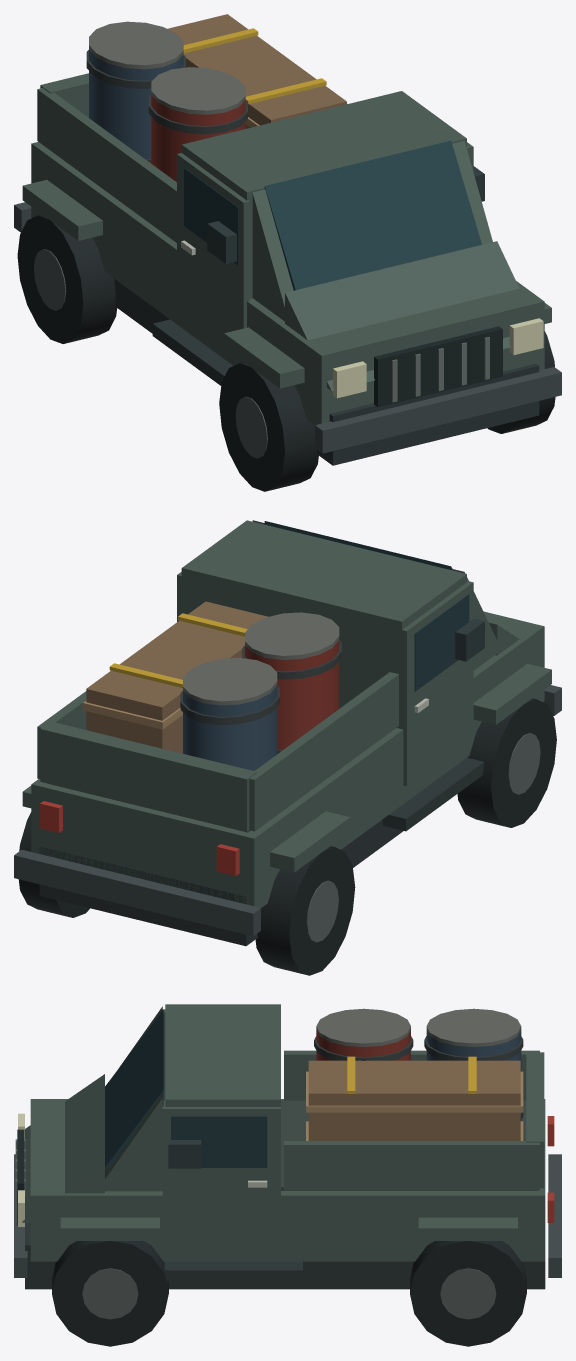
The model's file is CMU3DReduxAU14VehicleCivArmoredTruck.glb.
The picture shows the model from 3 angles, top to bottom: view 1: azimuth 30°, elevation 25°; view 2: azimuth 150°, elevation 25°; view 3: azimuth 270°, elevation 25°; orthographic projection. The views are drawn at different scales.
Parts seen in each view (by area): view 1: lower vehicle body, windshield, rubber road tire (×3), cab bulkhead, front hood, bed side wall, cab door skin, wooden cargo crate, cargo drum (×2), drum lid (×2), bumper, sealed chassis (+11 smaller); view 2: lower vehicle body, cab bulkhead, rubber road tire (×3), tailgate, wooden cargo crate, bed side wall (×2), cargo drum (×2), cab door skin, bumper, drum lid (×2), sealed chassis, wheel fender (×2) (+10 smaller); view 3: lower vehicle body, rubber road tire (×2), wooden cargo crate, bed side wall (×2), cab bulkhead, cab door skin, sealed chassis, drum lid (×2), windshield, front hood, wheel fender (×2), recessed metal wheel hub (×2) (+11 smaller).
Part boxes in pixels (x1,y1,x2,y2): lower vehicle body: [31, 142, 544, 424]; windshield: [264, 140, 481, 290]; rubber road tire (×3): [17, 214, 555, 491]; cab bulkhead: [181, 91, 466, 298]; front hood: [285, 241, 519, 390]; bed side wall: [37, 88, 176, 242]; cab door skin: [177, 153, 249, 343]; wooden cargo crate: [167, 14, 346, 128]; cargo drum (×2): [89, 49, 245, 181]; drum lid (×2): [89, 21, 245, 114]; bumper: [315, 367, 561, 453]; sealed chassis: [114, 279, 539, 465]; lower vehicle body: [31, 611, 544, 907]; cab bulkhead: [181, 520, 466, 729]; rubber road tire (×3): [18, 698, 556, 975]; tailgate: [40, 721, 256, 831]; wooden cargo crate: [86, 601, 268, 753]; bed side wall (×2): [37, 672, 398, 831]; cargo drum (×2): [183, 640, 339, 770]; cab door skin: [402, 581, 473, 786]; bumper: [14, 850, 260, 936]; drum lid (×2): [183, 612, 339, 705]; sealed chassis: [39, 819, 403, 946]; wheel fender (×2): [270, 663, 551, 872]; lower vehicle body: [30, 1099, 545, 1261]; rubber road tire (×2): [52, 1241, 526, 1346]; wooden cargo crate: [308, 1060, 520, 1140]; bed side wall (×2): [284, 1050, 539, 1190]; cab bulkhead: [165, 1004, 280, 1106]; cab door skin: [162, 1106, 280, 1246]; sealed chassis: [25, 1222, 545, 1289]; drum lid (×2): [316, 1008, 521, 1046]; windshield: [105, 1009, 163, 1167]; front hood: [22, 1074, 104, 1222]; wheel fender (×2): [60, 1217, 517, 1240]; recessed metal wheel hub (×2): [82, 1268, 496, 1319].
Size of the model in its own units: 1.38 by 1.31 by 2.71.
